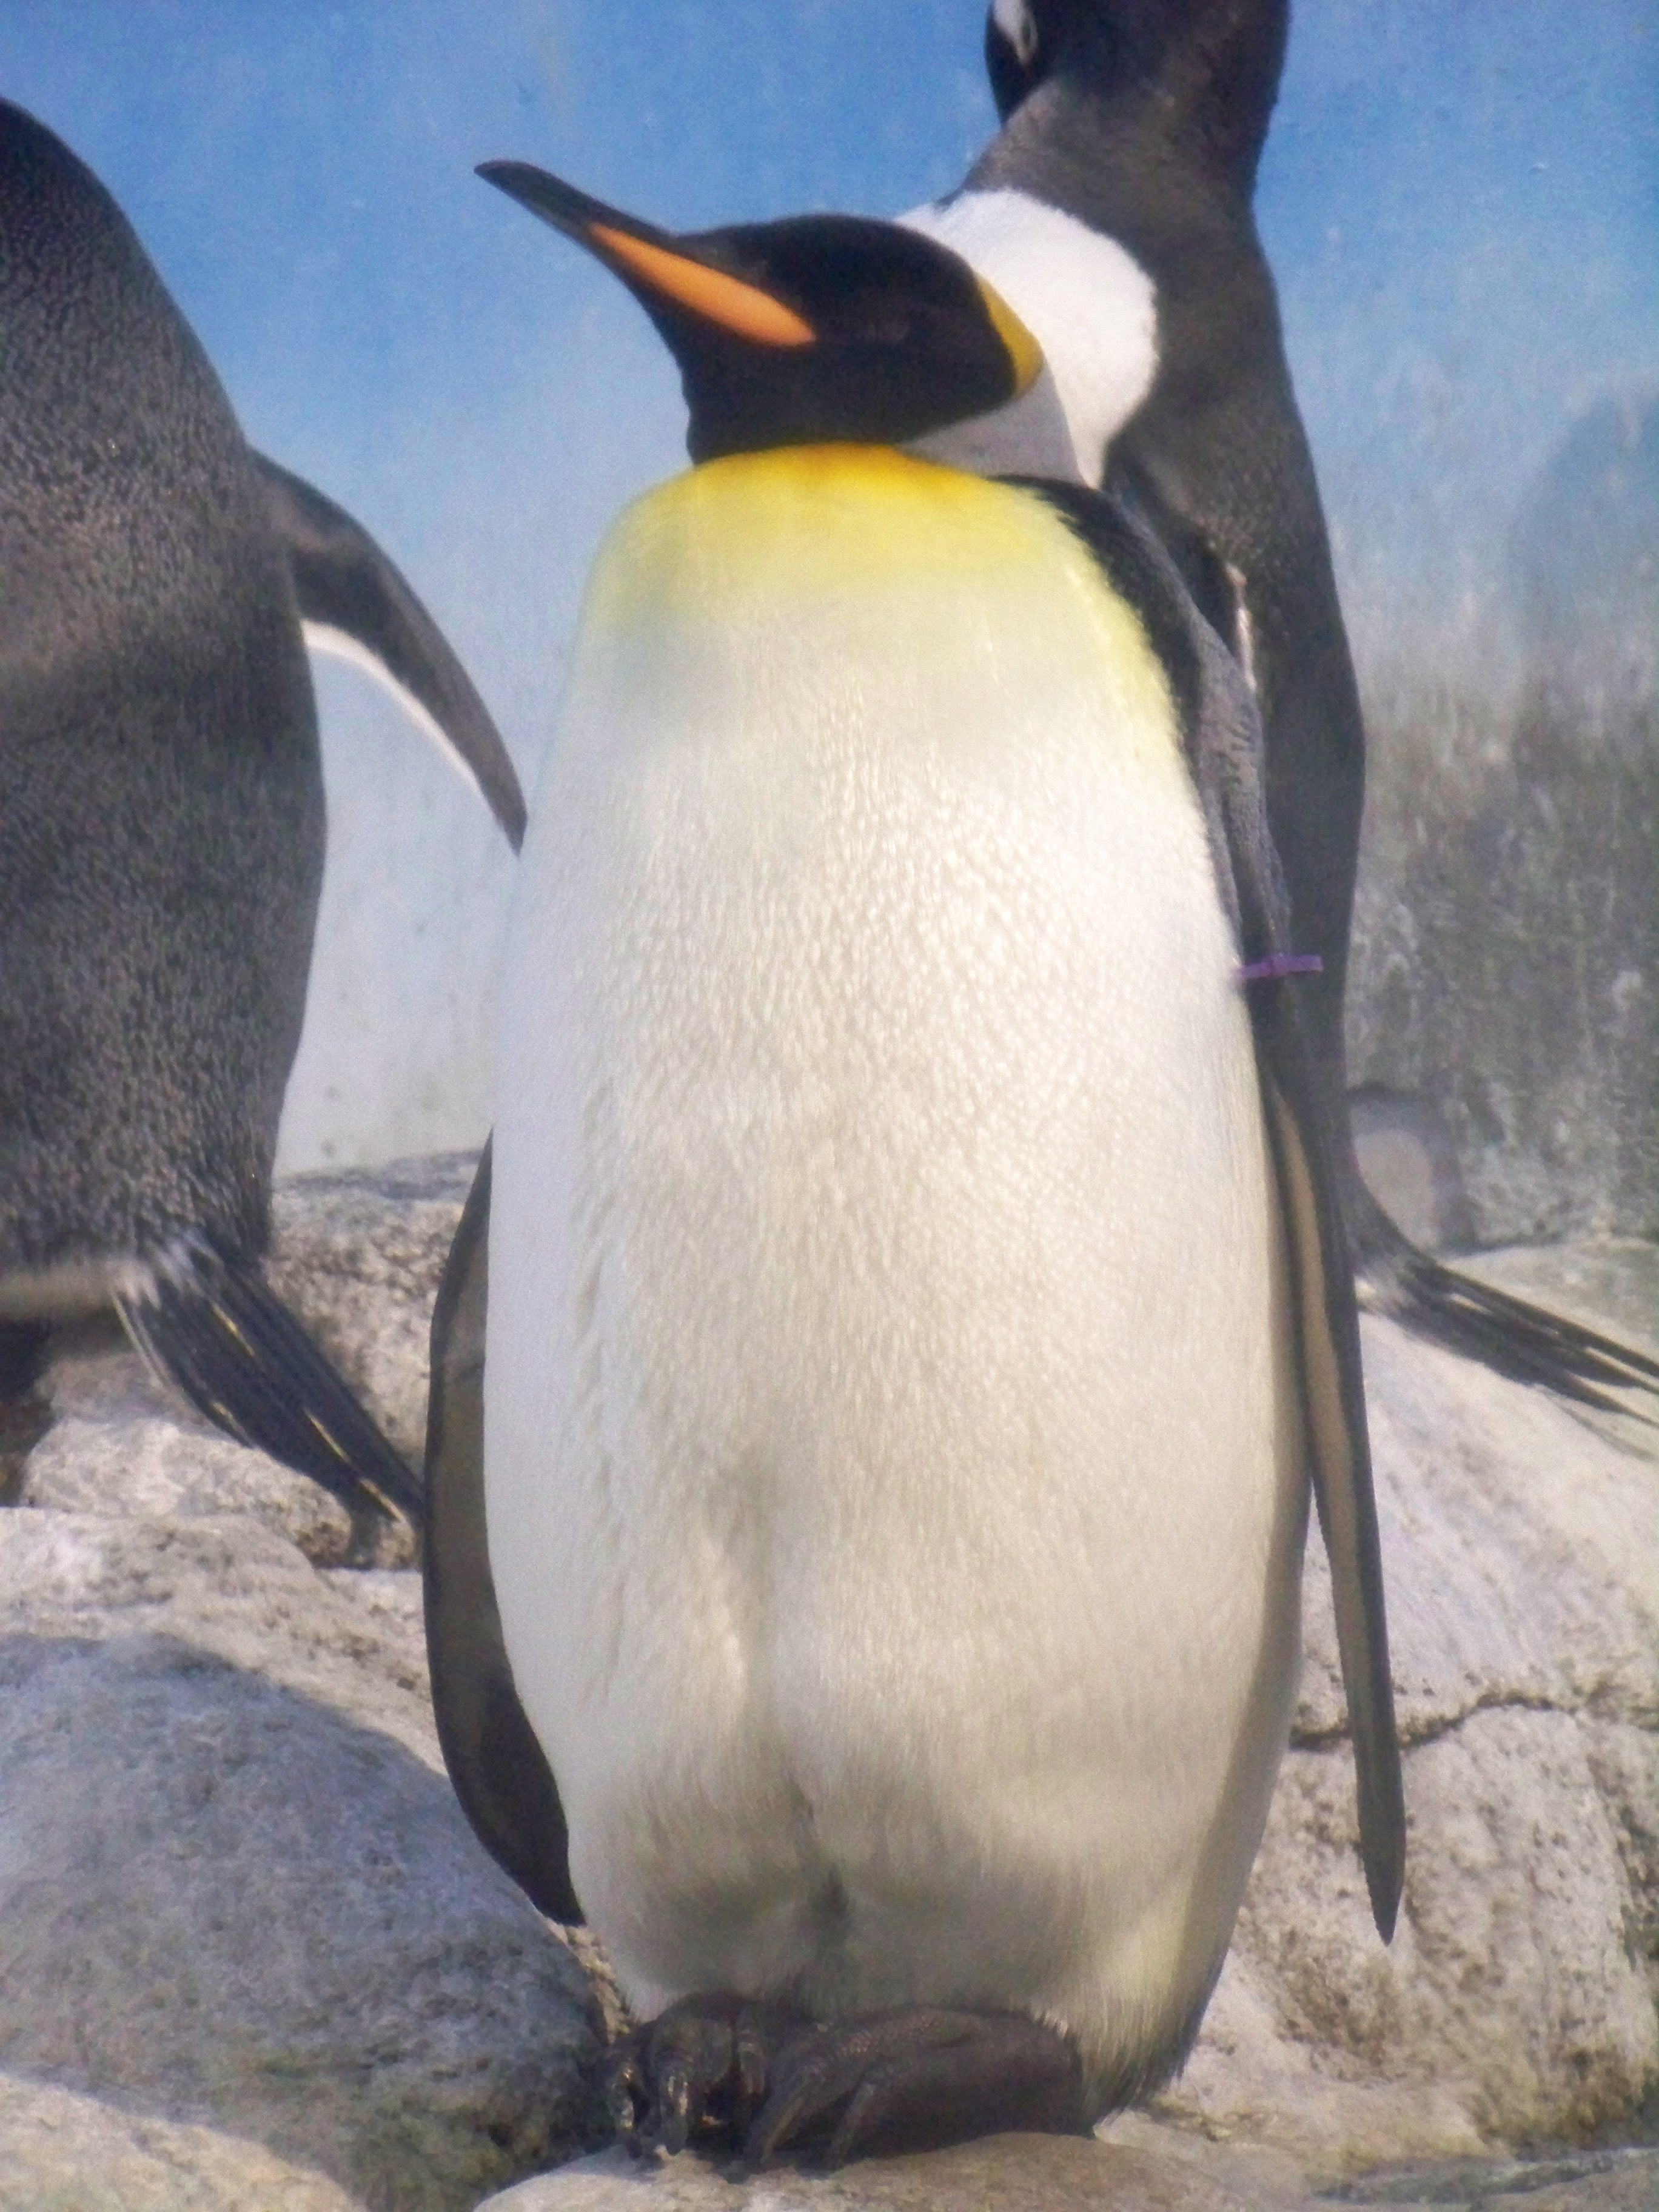penguin: (457, 164, 1441, 2181)
